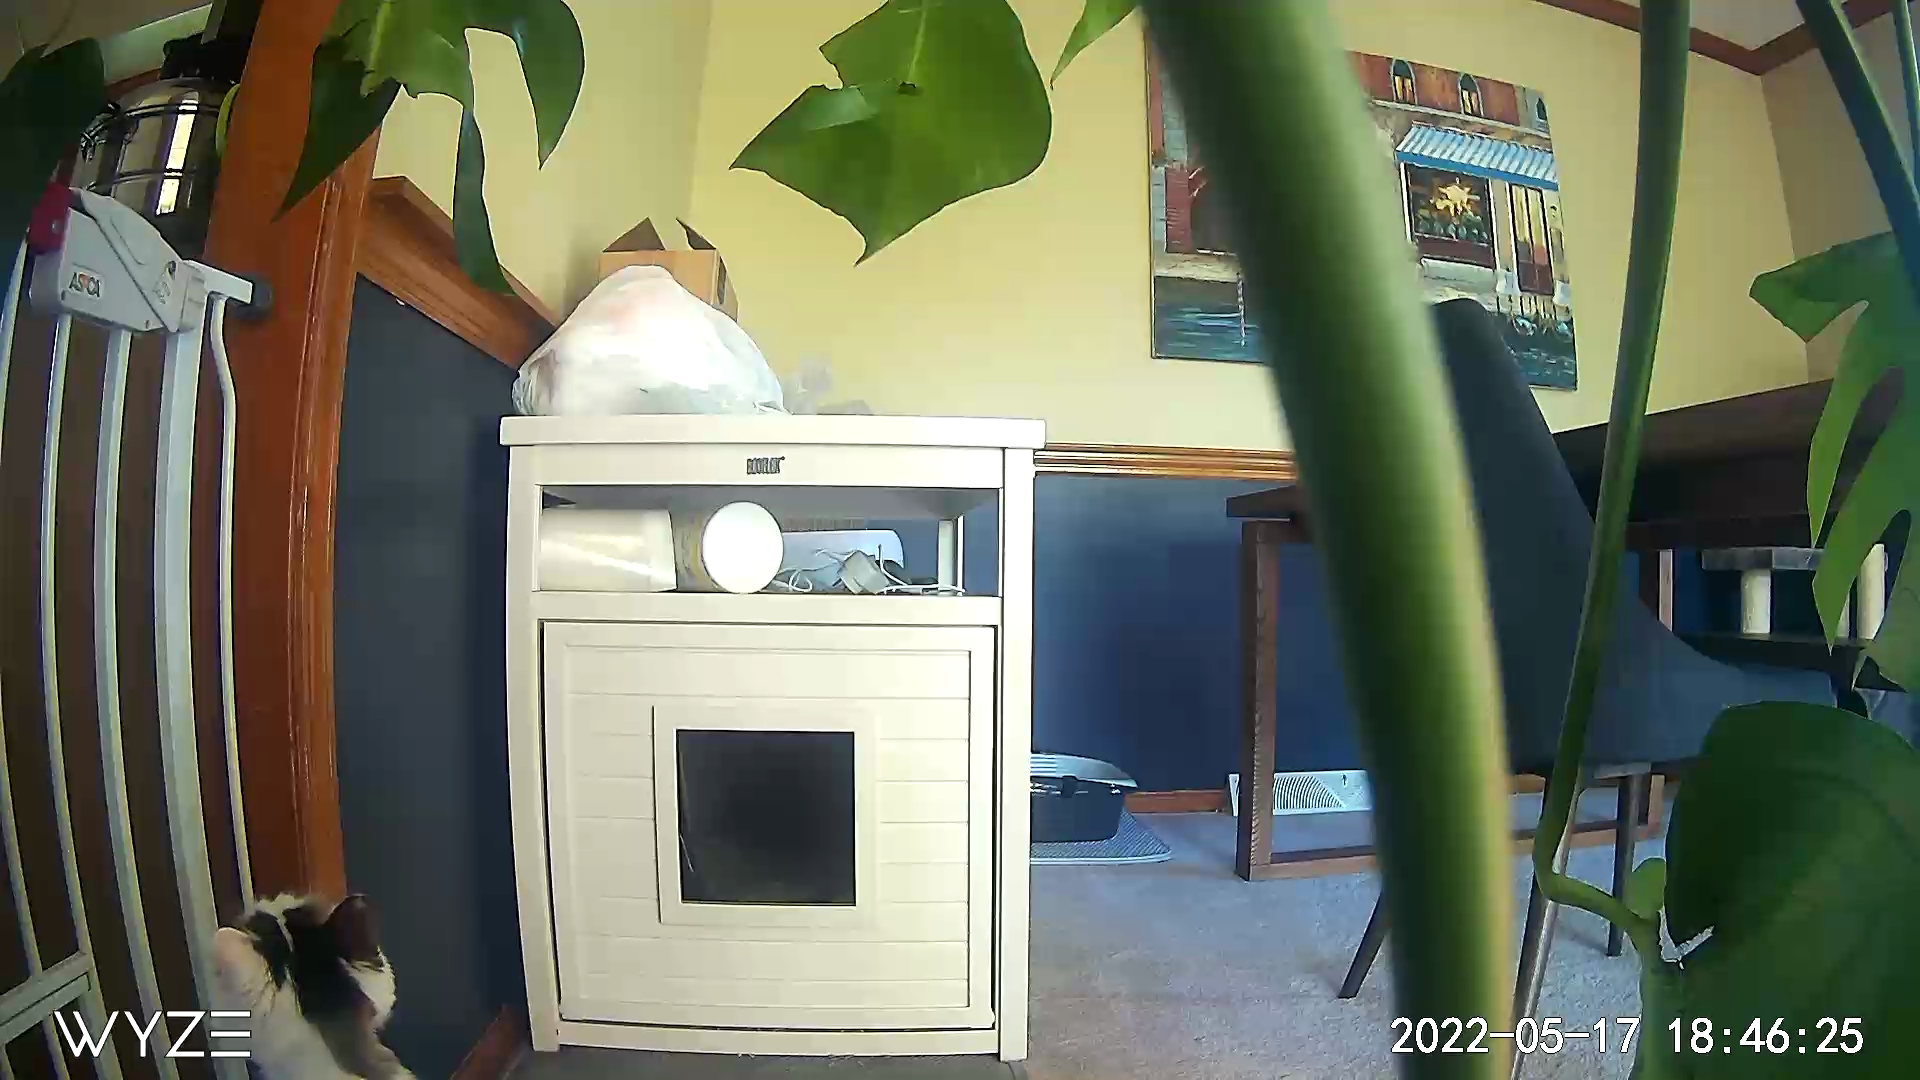maoxin: (194, 887, 407, 996)
